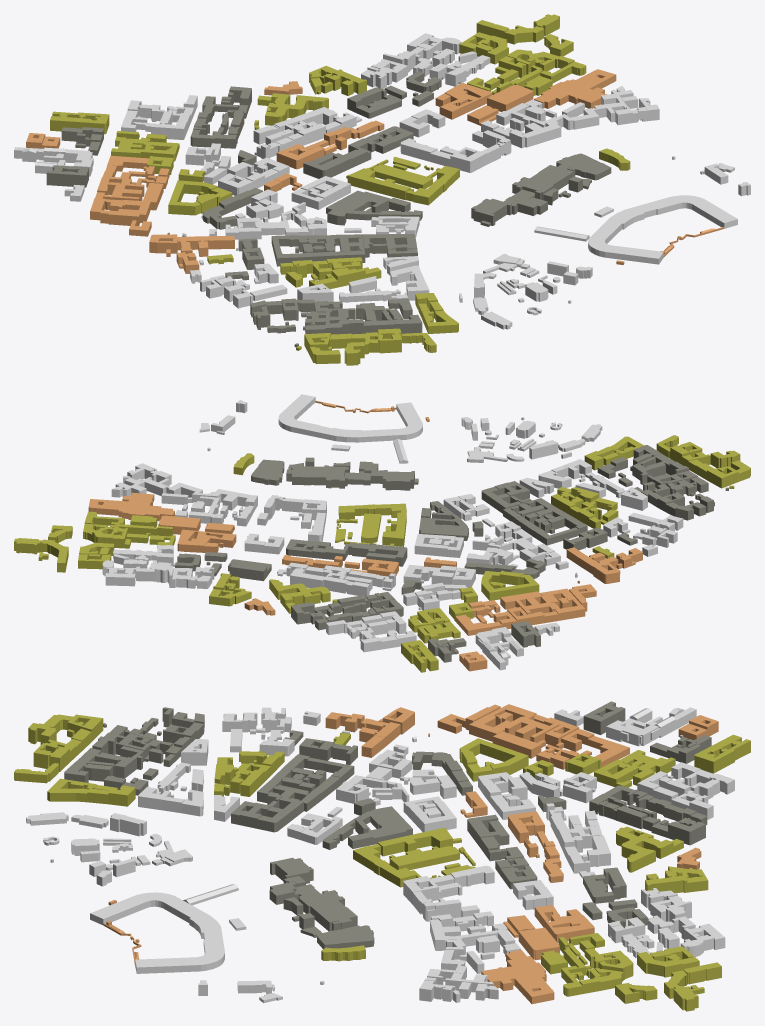
The model's file is map_colored.glb.
3 renders of one model, top to bottom at view 1: azimuth 30°, elevation 25°; view 2: azimuth 150°, elevation 25°; view 3: azimuth 270°, elevation 25°, orthographic. The views are drawn at different scales.
Parts seen in each view (by area): view 1: map (2)_buildings.387, map (2)_buildings.506, map (2)_buildings.147, map (2)_buildings.420, map (2)_buildings.366, map (2)_buildings.044, map (2)_buildings.466, map (2)_buildings.505, map (2)_buildings.296, map (2)_buildings.274, map (2)_buildings.273, map (2)_buildings.470 (+19 smaller); view 2: map (2)_buildings.387, map (2)_buildings.506, map (2)_buildings.420, map (2)_buildings.147, map (2)_buildings.366, map (2)_buildings.044, map (2)_buildings.296, map (2)_buildings.505, map (2)_buildings.470, map (2)_buildings.274, map (2)_buildings.373, map (2)_buildings.273 (+19 smaller); view 3: map (2)_buildings.387, map (2)_buildings.506, map (2)_buildings.147, map (2)_buildings.420, map (2)_buildings.505, map (2)_buildings.366, map (2)_buildings.296, map (2)_buildings.044, map (2)_buildings.466, map (2)_buildings.274, map (2)_buildings.273, map (2)_buildings.470 (+53 smaller).
Part boxes in pixels (x1,y1,x2,y2): map (2)_buildings.387: (588,195,737,264); map (2)_buildings.506: (534,69,616,108); map (2)_buildings.147: (265,93,328,125); map (2)_buildings.420: (512,164,575,199); map (2)_buildings.366: (439,83,492,119); map (2)_buildings.044: (168,180,217,215); map (2)_buildings.466: (347,168,410,200); map (2)_buildings.505: (50,111,109,134); map (2)_buildings.296: (326,190,390,219); map (2)_buildings.274: (300,176,350,206); map (2)_buildings.273: (556,153,611,180); map (2)_buildings.470: (413,165,459,205); map (2)_buildings.387: (278,394,422,442); map (2)_buildings.506: (88,492,174,521); map (2)_buildings.420: (286,466,348,488); map (2)_buildings.147: (269,579,330,608); map (2)_buildings.366: (177,529,236,552); map (2)_buildings.044: (481,574,539,600); map (2)_buildings.296: (419,517,468,540); map (2)_buildings.505: (401,640,438,672); map (2)_buildings.470: (338,503,406,519); map (2)_buildings.274: (414,534,455,556); map (2)_buildings.373: (632,453,675,484); map (2)_buildings.273: (251,459,284,485); map (2)_buildings.387: (90,892,224,973); map (2)_buildings.506: (481,950,554,1004); map (2)_buildings.147: (616,826,673,872); map (2)_buildings.420: (298,890,357,931); map (2)_buildings.505: (694,734,750,773); map (2)_buildings.366: (534,905,594,942); map (2)_buildings.296: (355,806,412,844); map (2)_buildings.044: (459,738,528,774); map (2)_buildings.466: (377,827,452,856); map (2)_buildings.274: (407,801,456,832); map (2)_buildings.273: (317,925,374,948); map (2)_buildings.470: (353,846,416,887).
Bounding box in the file's own units: 1058 × 25.58 × 1105.
